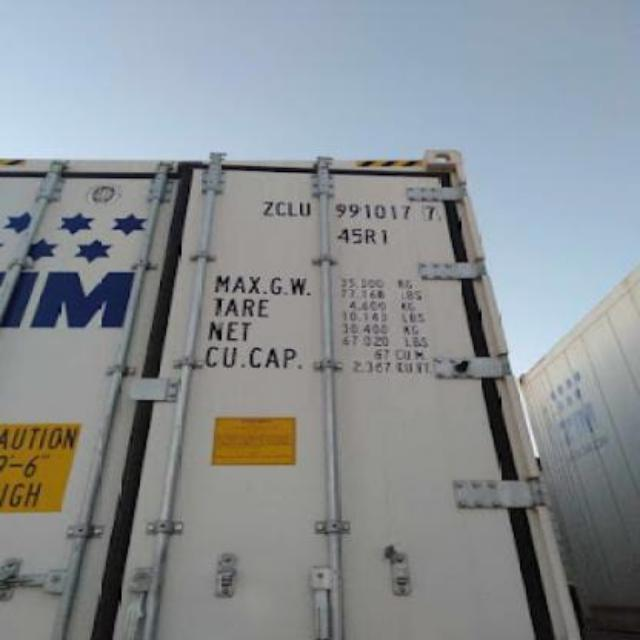0: (372, 202, 390, 222)
1: (388, 203, 402, 221), (364, 206, 376, 222)
7: (398, 203, 414, 221), (426, 205, 438, 221)
9: (334, 203, 348, 219), (346, 203, 359, 219)
C: (276, 201, 288, 217)
L: (286, 201, 298, 219)
U: (298, 199, 312, 219)
Z: (262, 198, 274, 218)
